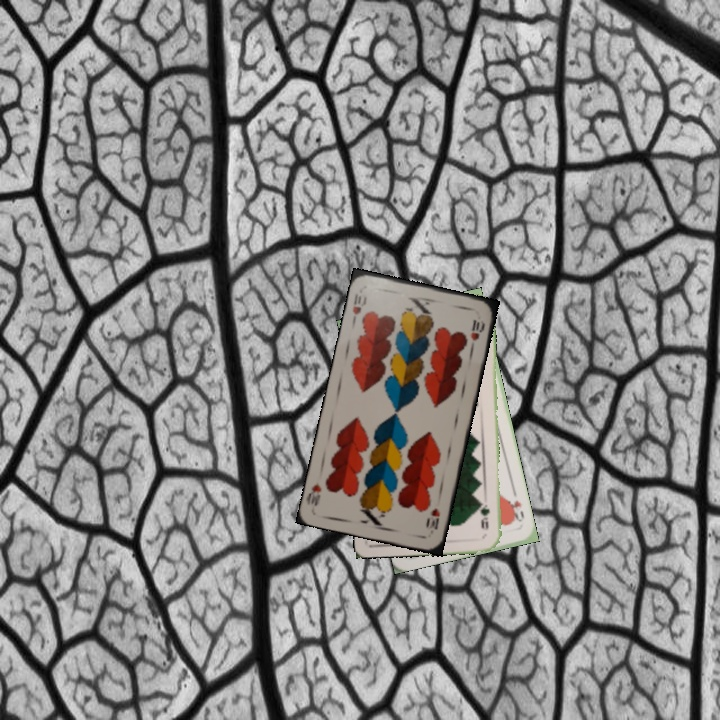G9: (477, 497, 492, 532)
H10: (348, 289, 369, 325), (422, 504, 442, 533)
HO: (505, 496, 527, 525)
